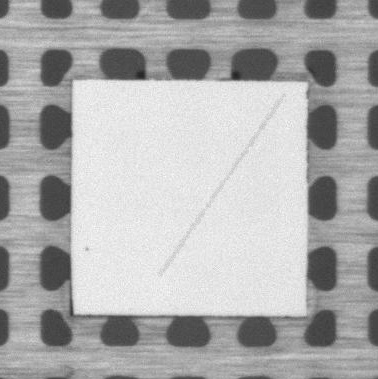DIE_CRACK: (160, 95, 284, 275)
